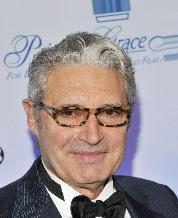face: (59, 103, 119, 163)
